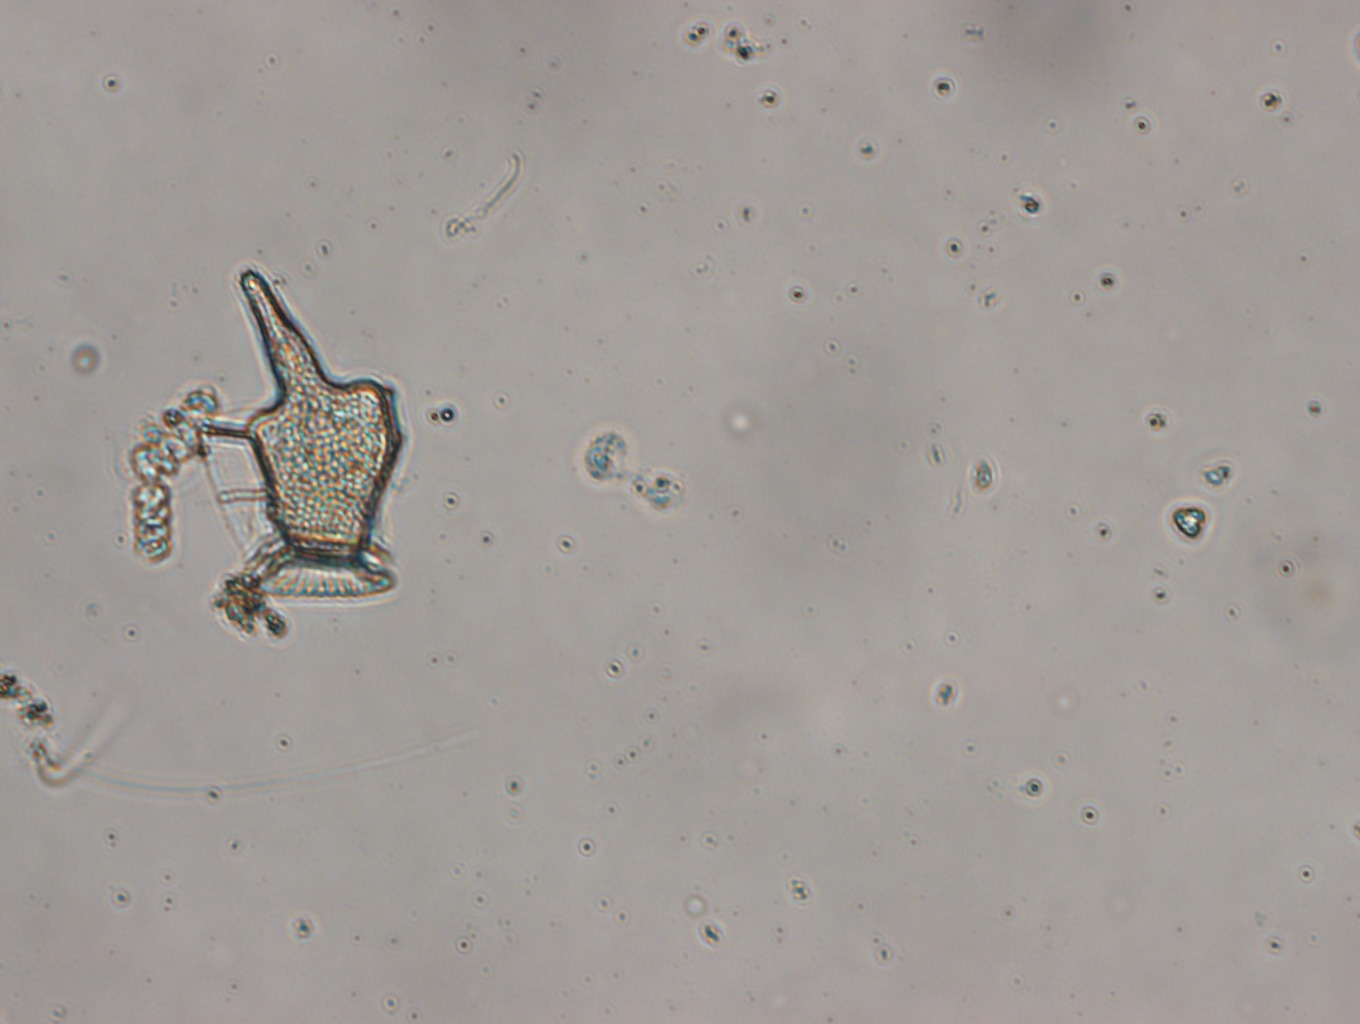dinophysis caudata: (203, 267, 407, 605)
